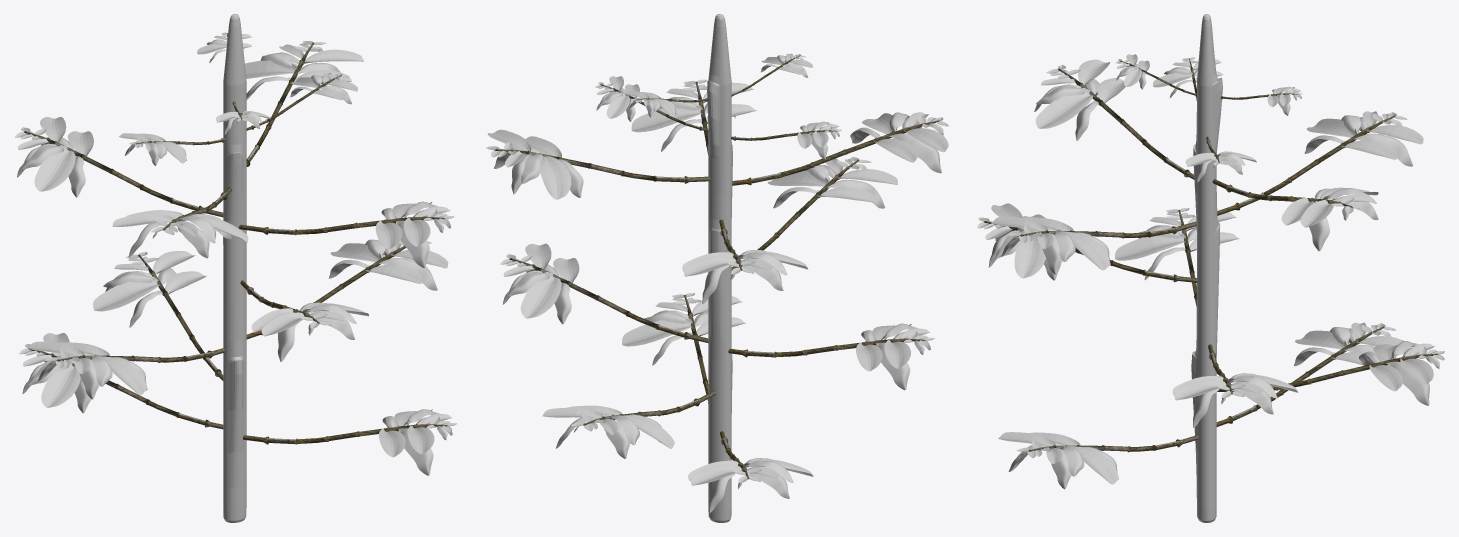
The model's file is TODO UNIDO .fbx.
3 views of the same model, side by side, from view 1: azimuth 30°, elevation 25°; view 2: azimuth 150°, elevation 25°; view 3: azimuth 270°, elevation 25° (orthographic).
Visible parts, largest first — view 1: palo arbol, Plane.053, Plane.002, Plane.109, rama 2.009, rama 2.005, rama 2.006, Plane.025, rama 2.010, rama 2.013, rama 2.011, Plane.081 (+17 smaller); view 2: palo arbol, Plane.030, rama 2.007, rama 2.004, Plane.081, rama 2.008, Plane.114, Plane.058, rama 2.013, Plane.084, rama 2.003, Plane.002 (+12 smaller); view 3: palo arbol, Plane.086, Plane.025, rama 2.006, Plane.193, rama 2.010, rama 2.007, Plane.058, rama 2.005, Plane.114, rama 2.011, rama 2.009 (+12 smaller).
Part boxes in pixels (<box>): palo arbol: <box>223,14,246,522</box>; Plane.053: <box>34,145,75,191</box>; Plane.002: <box>93,277,159,311</box>; Plane.109: <box>41,361,80,407</box>; rama 2.009: <box>243,424,447,444</box>; rama 2.005: <box>238,216,445,235</box>; rama 2.006: <box>24,131,223,217</box>; Plane.025: <box>94,354,146,394</box>; rama 2.010: <box>28,348,223,429</box>; rama 2.013: <box>56,348,224,362</box>; rama 2.011: <box>138,254,223,380</box>; Plane.081: <box>245,60,297,78</box>; palo arbol: <box>707,14,732,522</box>; Plane.030: <box>520,272,561,318</box>; rama 2.007: <box>732,120,939,185</box>; rama 2.004: <box>509,258,708,342</box>; Plane.081: <box>540,152,571,199</box>; rama 2.008: <box>494,149,710,183</box>; Plane.114: <box>622,318,692,346</box>; Plane.058: <box>631,105,702,132</box>; rama 2.013: <box>728,338,925,357</box>; Plane.084: <box>889,133,941,173</box>; rama 2.003: <box>731,159,859,270</box>; Plane.002: <box>611,414,674,448</box>; palo arbol: <box>1191,14,1222,522</box>; Plane.086: <box>1035,89,1092,128</box>; Plane.025: <box>1115,233,1185,260</box>; rama 2.006: <box>1217,115,1395,215</box>; Plane.193: <box>1014,235,1045,278</box>; rama 2.010: <box>1216,326,1384,426</box>; rama 2.007: <box>1058,68,1194,179</box>; Plane.058: <box>1058,229,1109,270</box>; rama 2.005: <box>1020,221,1196,238</box>; Plane.114: <box>1065,444,1118,484</box>; rama 2.011: <box>1217,353,1438,391</box>; rama 2.009: <box>1028,435,1198,452</box>.
Size of the model in its own units: 15476 by 18503 by 15558.
